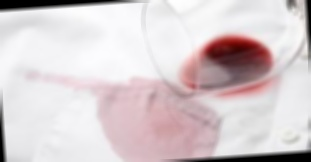wine: (86, 72, 219, 162), (34, 58, 117, 106)
